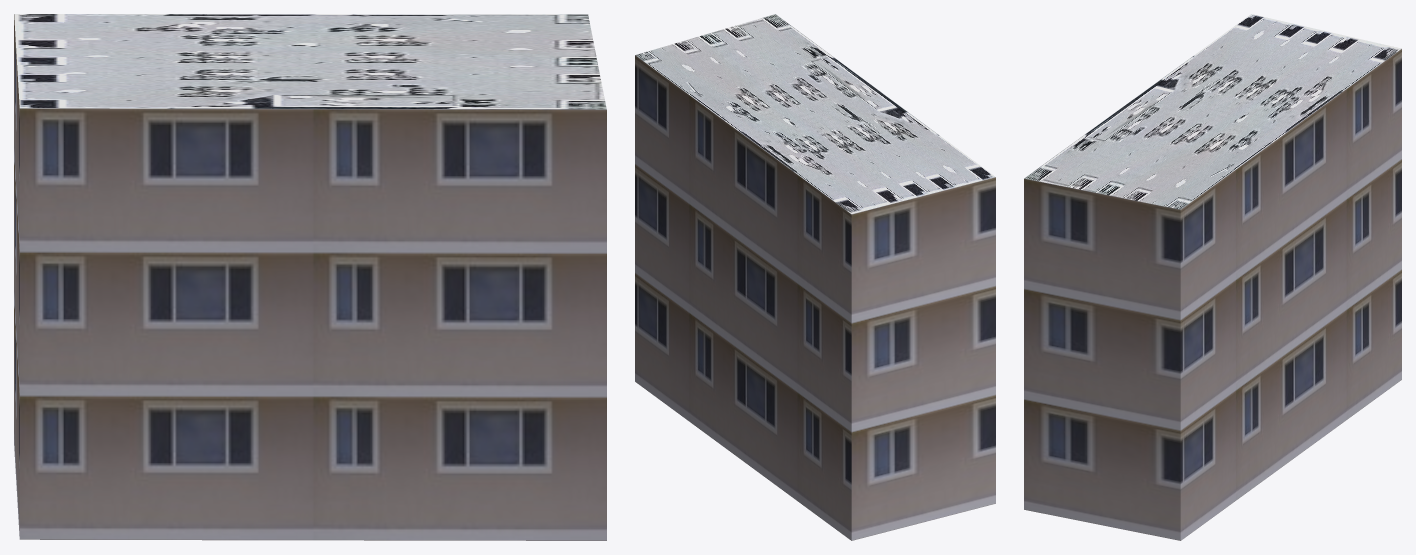
Rendered from ResTex__1004.fbx.
3 renders of one model, left to right at view 1: azimuth 30°, elevation 25°; view 2: azimuth 150°, elevation 25°; view 3: azimuth 270°, elevation 25°, orthographic. The views are drawn at different scales.
Visible parts, largest first — view 1: CityEngineMaterial_21_m, CityEngineMaterial_m; view 2: CityEngineMaterial_21_m, CityEngineMaterial_m; view 3: CityEngineMaterial_21_m, CityEngineMaterial_m.
Part boxes in pixels (x1=…): CityEngineMaterial_21_m: x1=14, y1=14, x2=606, y2=540; CityEngineMaterial_m: x1=14, y1=14, x2=606, y2=109; CityEngineMaterial_21_m: x1=635, y1=55, x2=995, y2=540; CityEngineMaterial_m: x1=635, y1=14, x2=995, y2=214; CityEngineMaterial_21_m: x1=1024, y1=49, x2=1401, y2=540; CityEngineMaterial_m: x1=1024, y1=14, x2=1401, y2=209.
Bounding box in the file's own units: 11.41 × 9 × 9.3.
Materials: 2 (2 with a texture image).
